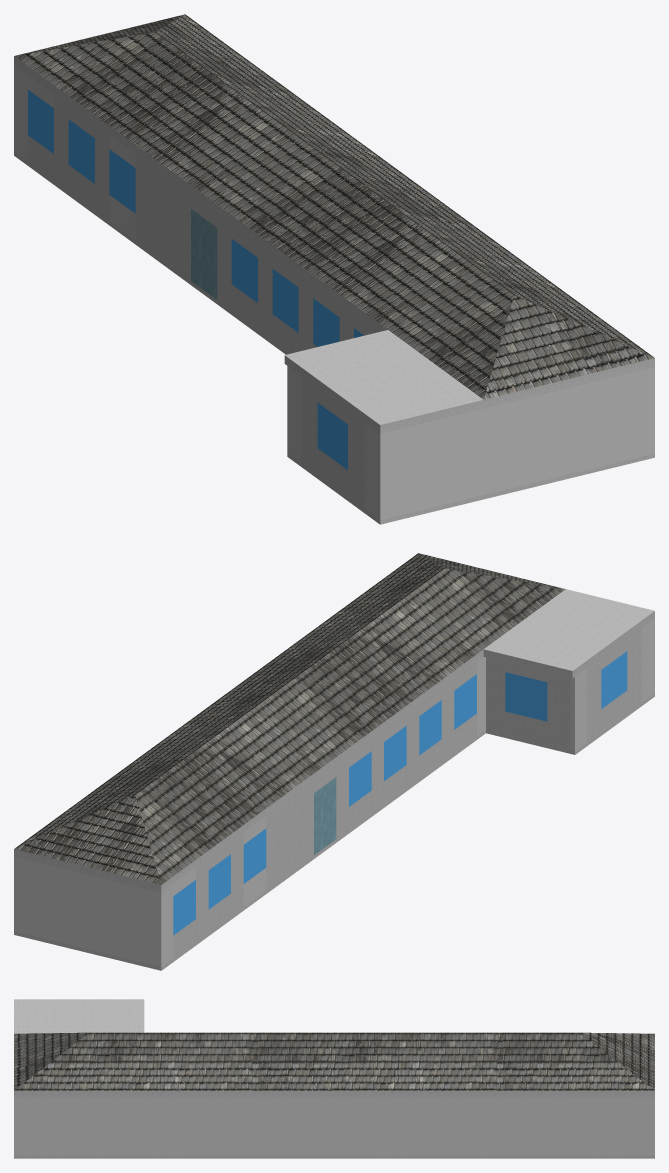
The model's file is Backwash_Pump_House.glb.
3 renders of one model, top to bottom at view 1: azimuth 30°, elevation 25°; view 2: azimuth 150°, elevation 25°; view 3: azimuth 270°, elevation 25°, orthographic. The views are drawn at different scales.
Visible parts, largest first — view 1: Roof, Floor1; view 2: Roof, Floor1; view 3: Roof, Floor1.
Boxes of the visible parts, left/top/right/bottom form: Roof: left=14, top=14, right=654, bottom=433; Floor1: left=14, top=65, right=654, bottom=524; Roof: left=14, top=553, right=654, bottom=892; Floor1: left=14, top=618, right=654, bottom=970; Roof: left=14, top=999, right=654, bottom=1096; Floor1: left=14, top=1096, right=654, bottom=1158.
Size of the model in its own units: 13.28 by 6.6 by 39.3.
Materials: 4 (4 with a texture image).
